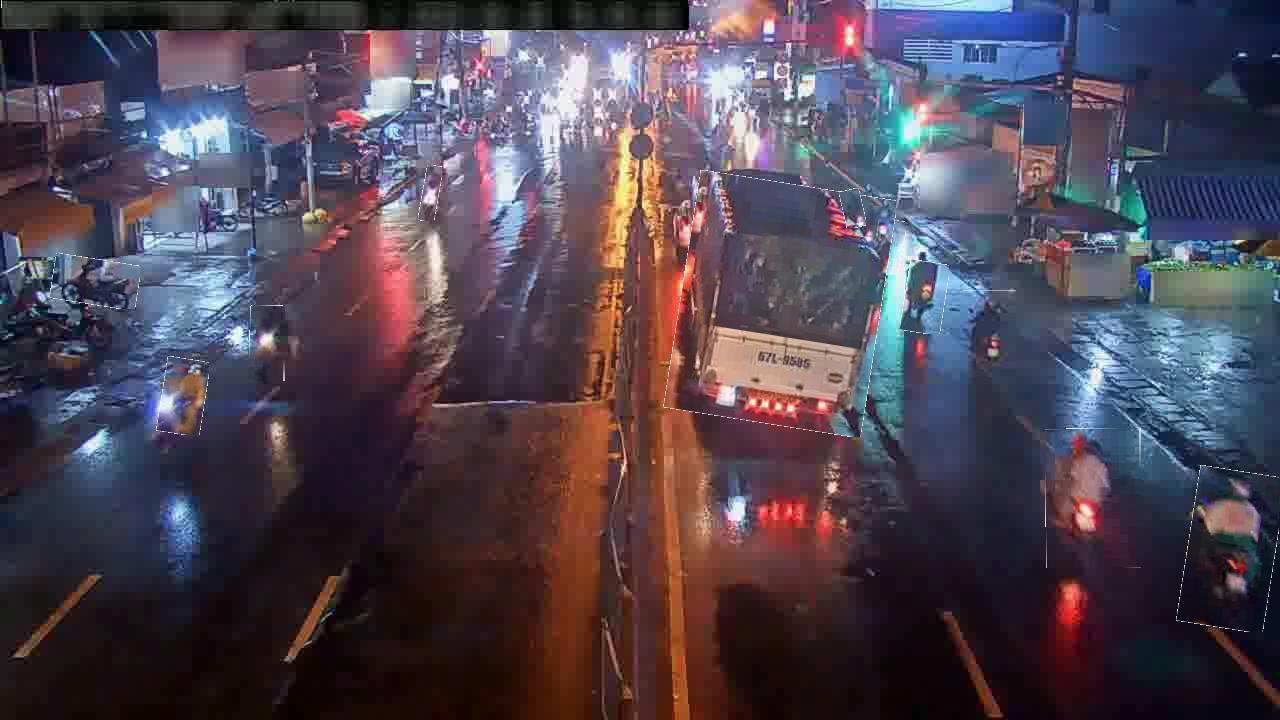8: (672, 177, 889, 431)
motorbike: (1182, 468, 1279, 631), (1046, 429, 1142, 569), (963, 290, 1017, 383), (52, 256, 140, 307), (159, 358, 208, 435), (902, 261, 948, 334), (250, 306, 286, 382), (863, 217, 905, 275), (421, 166, 441, 222), (841, 189, 865, 229)
